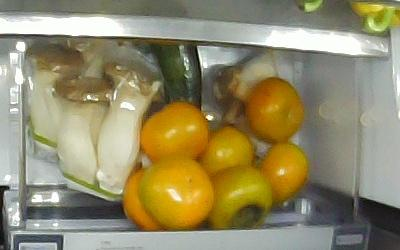persimmon: (141, 156, 212, 227), (141, 101, 208, 167), (205, 167, 272, 227), (246, 77, 305, 145), (256, 144, 308, 205), (197, 126, 253, 177)
